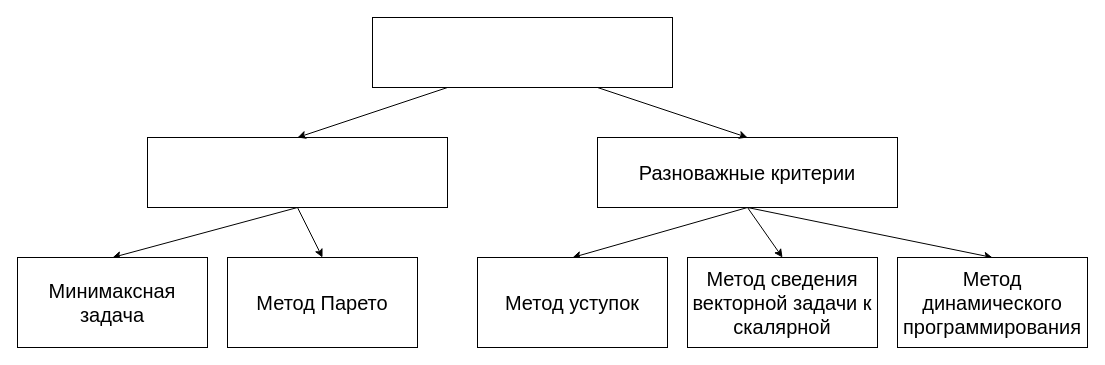
The diagram is 1105 pixels wide and 365 high, and some of its shapes have lost their labels. The shapes that lost their labels are listed below. From the top down, each one's box as (x1, y1, x2, y2) in pixels, then its label:
(372, 16, 672, 88): Методы многокритериального выбора
(146, 136, 448, 208): Равноважные критерии
